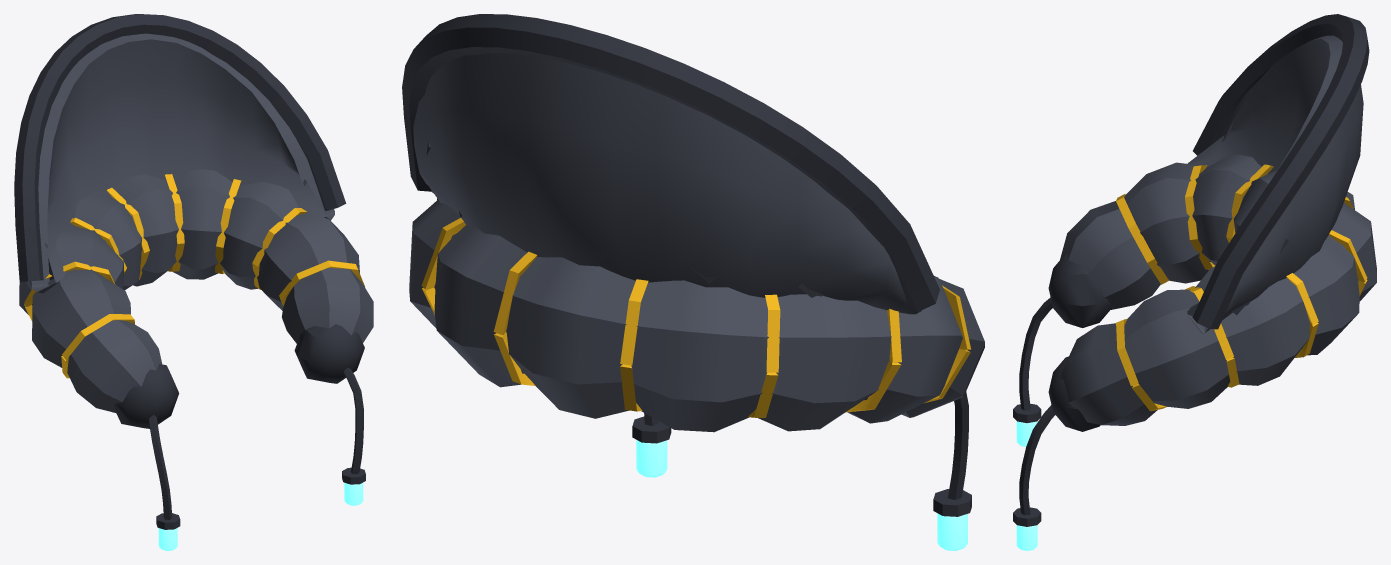
File: hush_hood.glb
3 views of the same model, side by side, from view 1: azimuth 30°, elevation 25°; view 2: azimuth 150°, elevation 25°; view 3: azimuth 270°, elevation 25° (orthographic). The views are drawn at different scales.
Visible parts, largest first — view 1: Headgear; view 2: Headgear; view 3: Headgear.
Boxes of the visible parts, <box> form: Headgear: <box>14,14,373,550</box>; Headgear: <box>402,14,984,550</box>; Headgear: <box>1013,14,1376,550</box>.
Size of the model in its own units: 0.3324 by 0.3959 by 0.2827.
